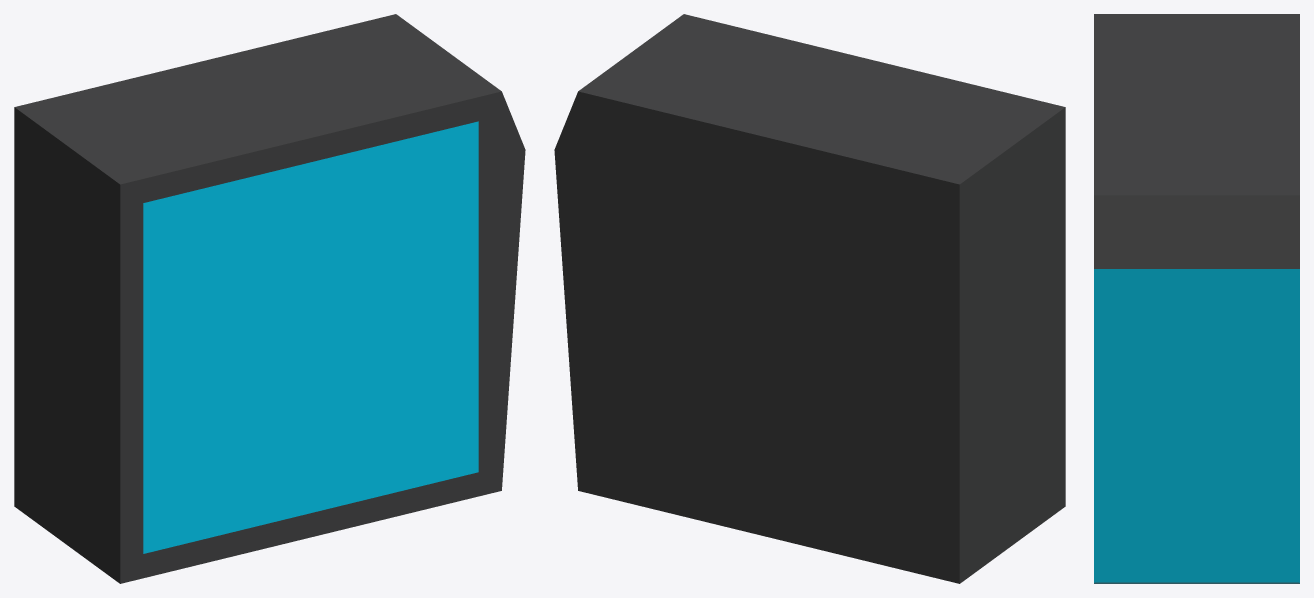
The model's file is pcExp.fbx.
3 views of the same model, side by side, from view 1: azimuth 30°, elevation 25°; view 2: azimuth 150°, elevation 25°; view 3: azimuth 270°, elevation 25° (orthographic). The views are drawn at different scales.
Parts seen in each view (by area): view 1: PC, MainBlock, GlassSide; view 2: PC, MainBlock; view 3: GlassFront, MainBlock, PC.
Boxes of the visible parts, <box> form: PC: <box>14,91,525,583</box>; MainBlock: <box>14,14,512,583</box>; GlassSide: <box>143,143,478,551</box>; PC: <box>554,92,1065,583</box>; MainBlock: <box>555,14,1065,581</box>; GlassFront: <box>1094,269,1299,583</box>; MainBlock: <box>1094,14,1299,583</box>; PC: <box>1094,195,1299,583</box>.
Size of the model in its own units: 212 by 200 by 96.
